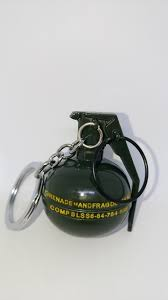e1: (6, 111, 150, 237)
